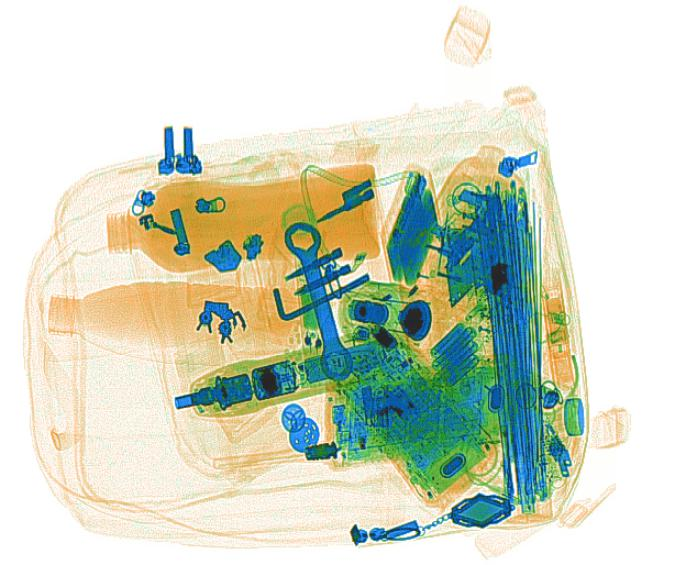battery: (430, 321, 482, 388)
